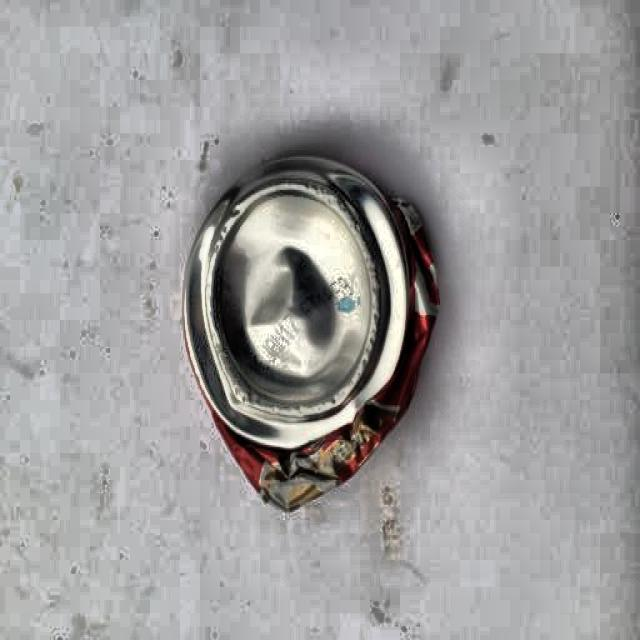metal: (183, 154, 442, 512)
